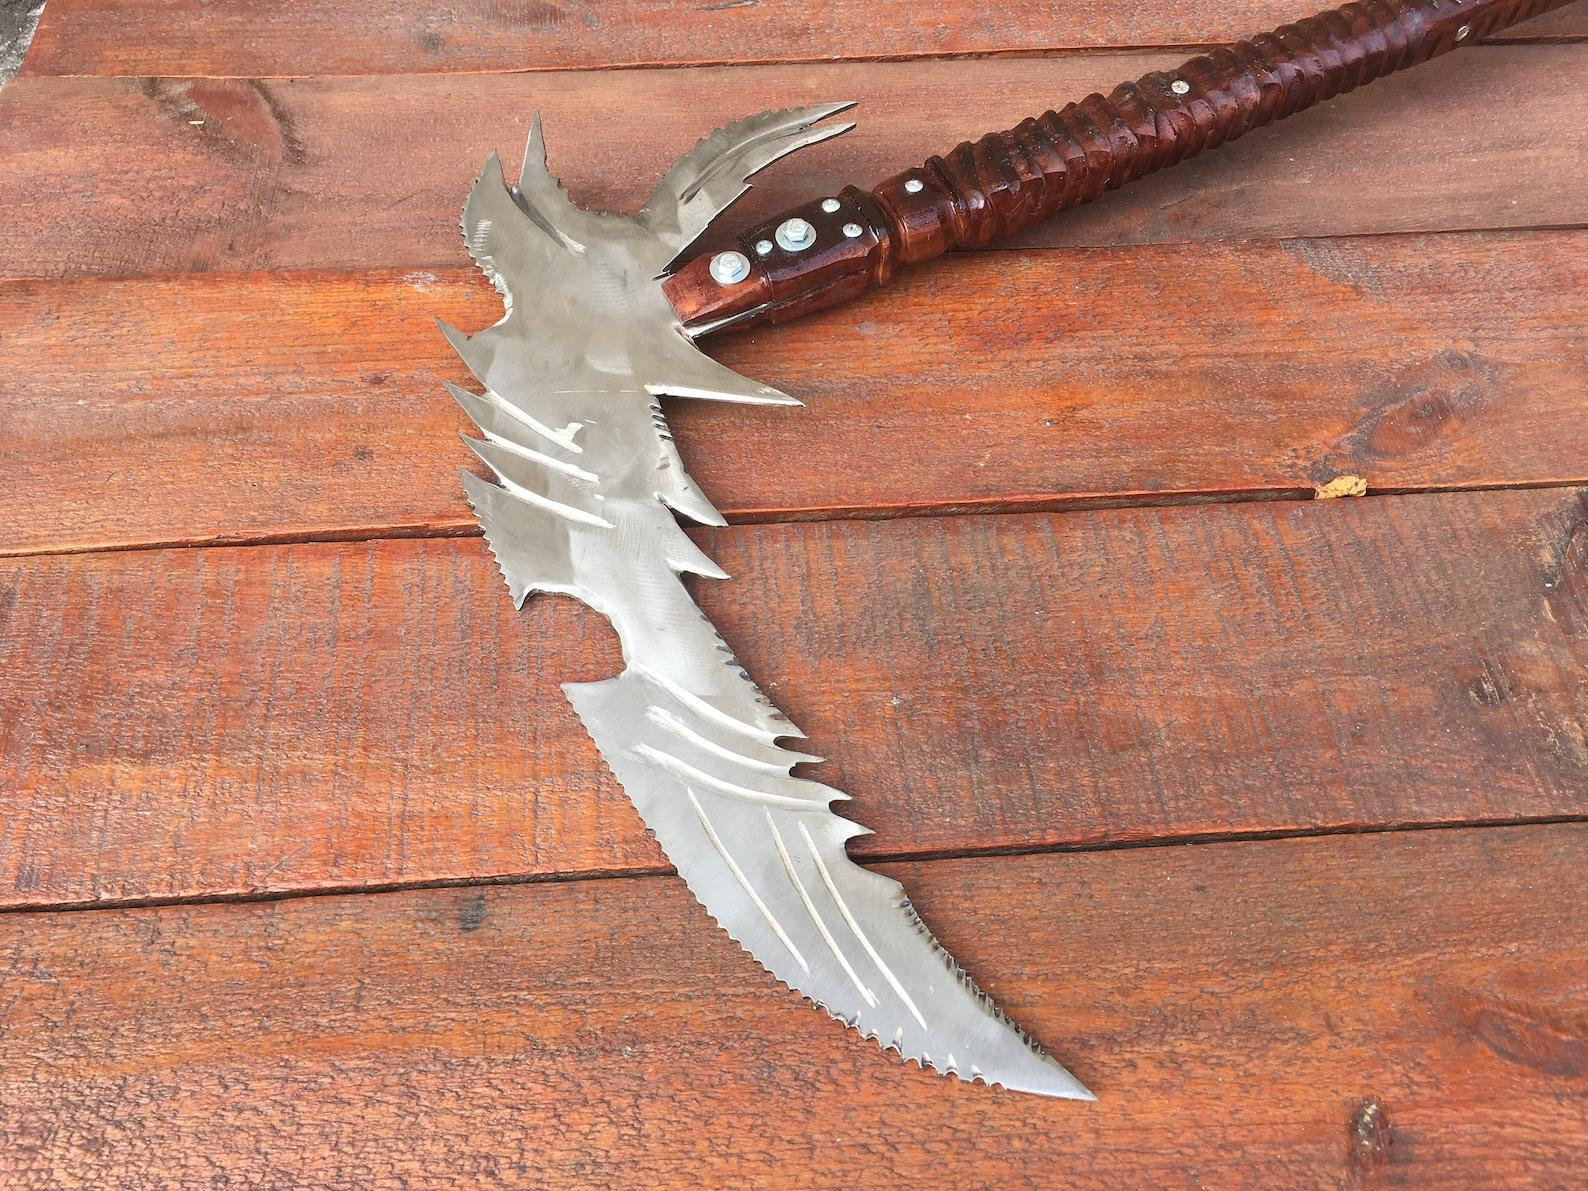foice: (440, 0, 1544, 1097)
